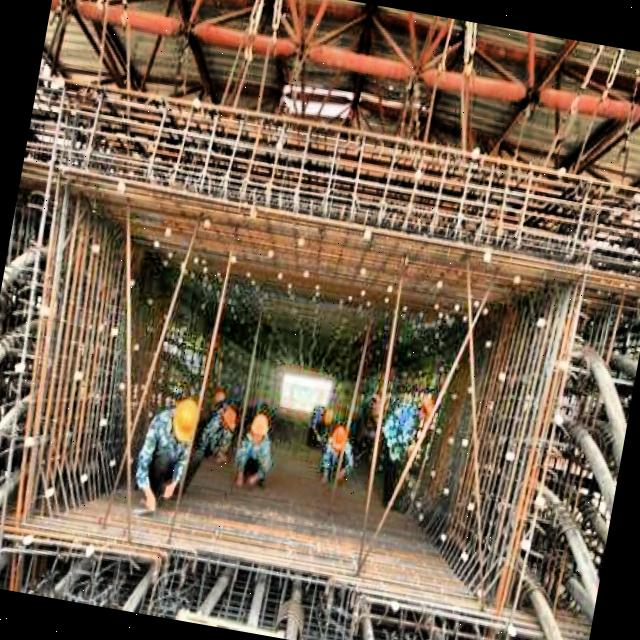helmet: (162, 393, 205, 452), (242, 410, 274, 454), (322, 418, 350, 461), (218, 400, 242, 436)
